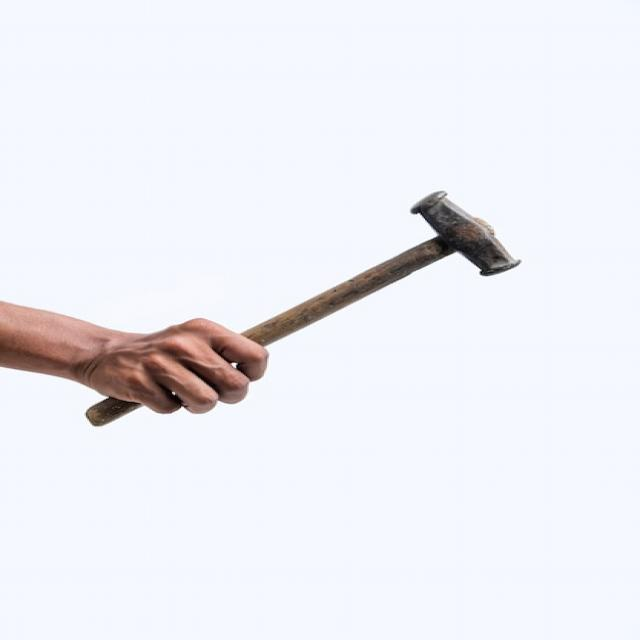hammer: (74, 174, 529, 442)
